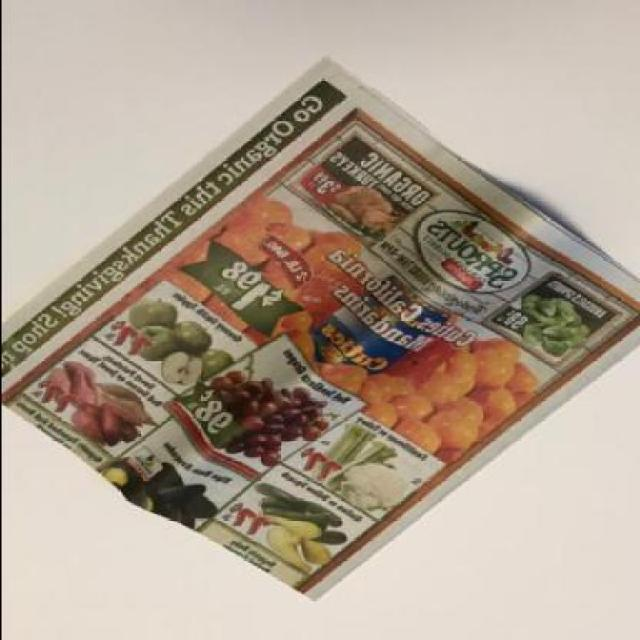PAPER: (1, 60, 638, 603)
